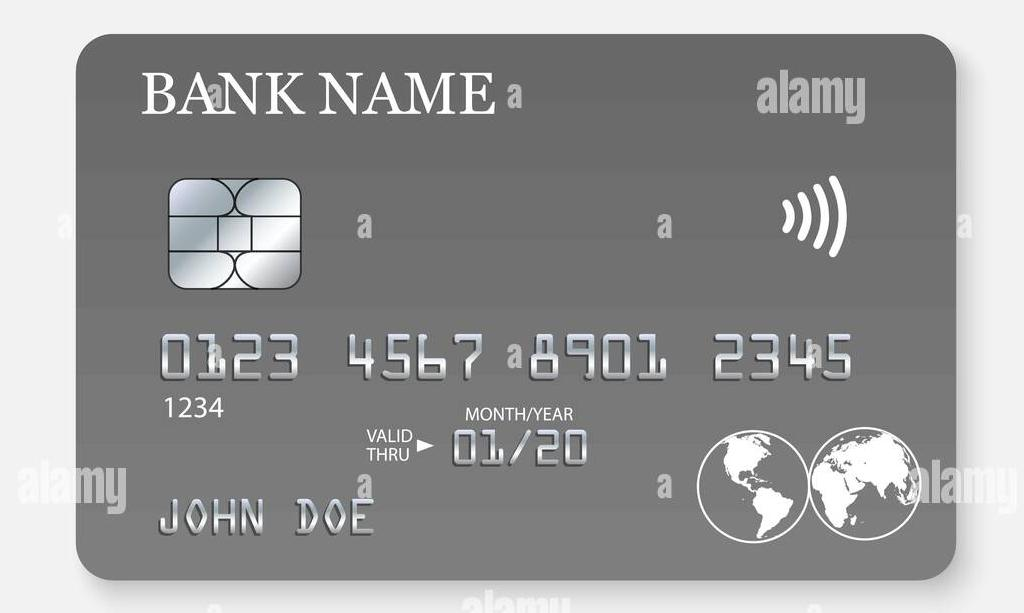payment_card: (72, 31, 955, 584)
